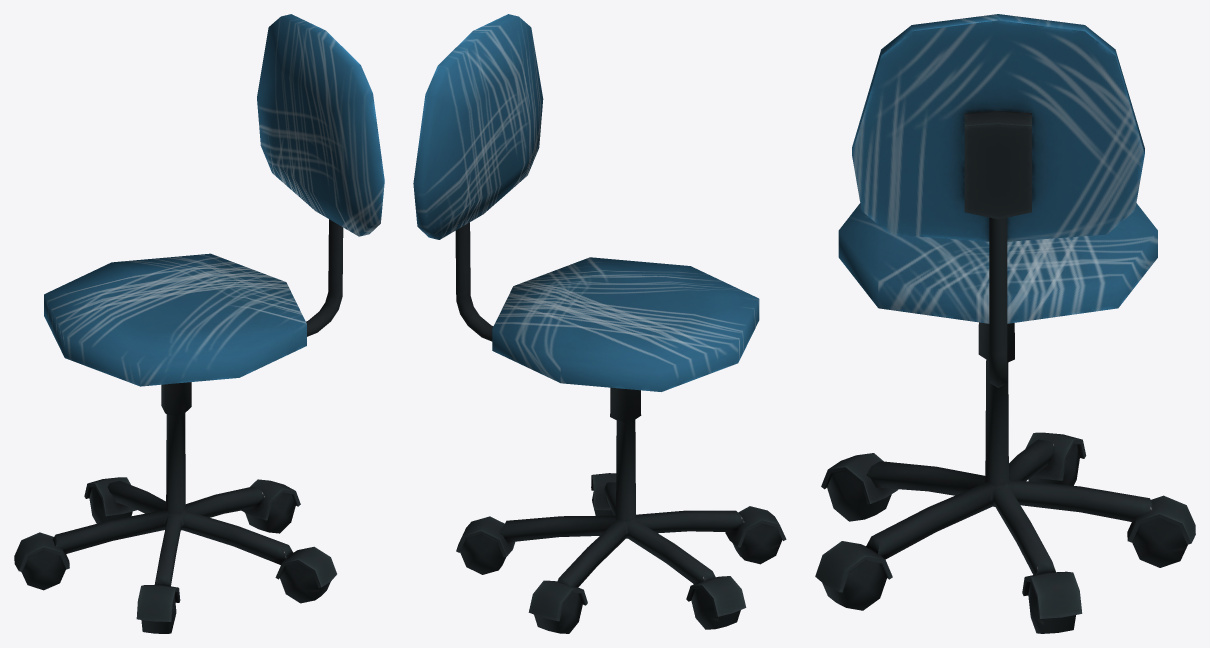
Rendered from zidle.fbx.
The picture shows the model from 3 angles, left to right: view 1: azimuth 30°, elevation 25°; view 2: azimuth 150°, elevation 25°; view 3: azimuth 270°, elevation 25°; orthographic projection. The views are drawn at different scales.
Parts seen in each view (by area): view 1: Válec_4; view 2: Válec_4; view 3: Válec_4.
Part boxes in pixels (x1,y1,x2,y2): Válec_4: [14, 14, 384, 633]; Válec_4: [413, 14, 786, 633]; Válec_4: [815, 14, 1195, 633].
Bounding box in the file's own units: 229 × 358 × 195.
Materials: 1 (1 with a texture image).
